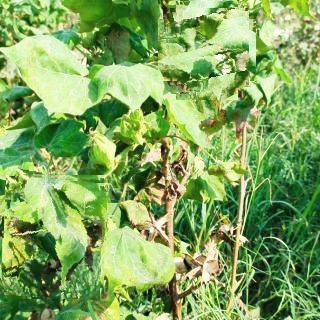curl: (2, 172, 108, 299), (165, 8, 249, 93)
